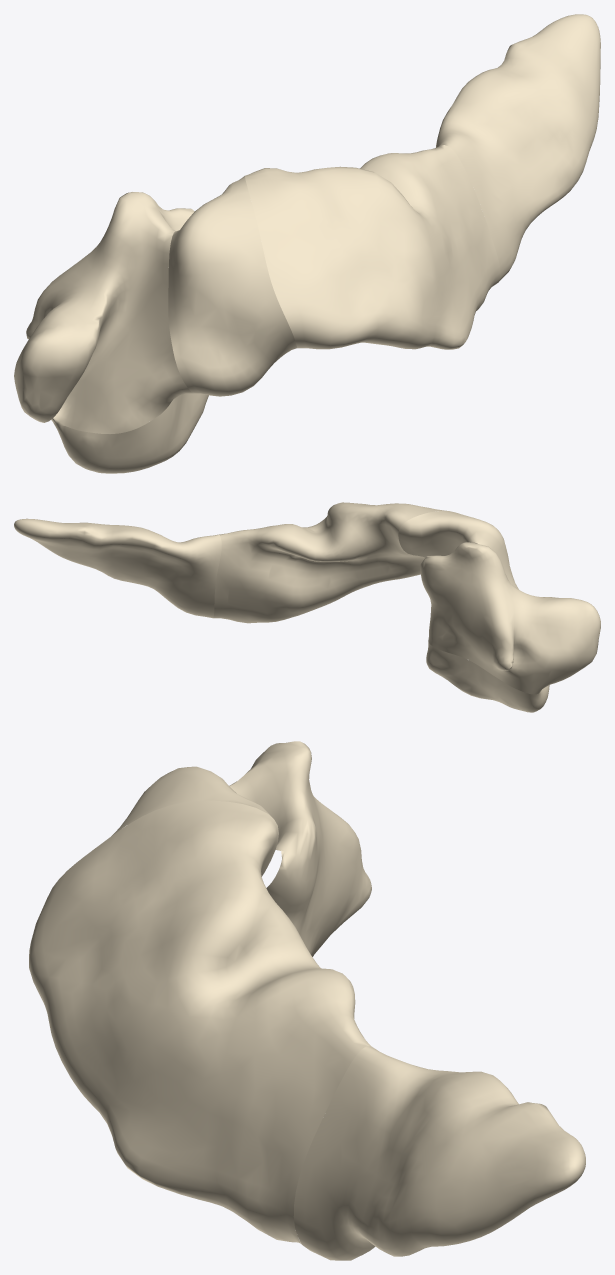
The model's file is vh_f_pancreas-80.glb.
3 renders of one model, top to bottom at view 1: azimuth 30°, elevation 25°; view 2: azimuth 150°, elevation 25°; view 3: azimuth 270°, elevation 25°, orthographic. The views are drawn at different scales.
Visible parts, largest first — view 1: VH_F_body_of_pancreas, VH_F_head_of_pancreas, VH_F_tail_of_pancreas, VH_F_neck_of_pancreas, VH_F_uncinate_process; view 2: VH_F_body_of_pancreas, VH_F_head_of_pancreas, VH_F_tail_of_pancreas, VH_F_neck_of_pancreas, VH_F_uncinate_process; view 3: VH_F_body_of_pancreas, VH_F_tail_of_pancreas, VH_F_head_of_pancreas, VH_F_neck_of_pancreas.
Boxes of the visible parts, <box> form: VH_F_body_of_pancreas: <box>245,145,500,349</box>; VH_F_head_of_pancreas: <box>14,192,194,433</box>; VH_F_tail_of_pancreas: <box>436,14,600,282</box>; VH_F_neck_of_pancreas: <box>168,176,296,396</box>; VH_F_uncinate_process: <box>53,393,208,473</box>; VH_F_body_of_pancreas: <box>213,502,449,623</box>; VH_F_head_of_pancreas: <box>420,542,600,694</box>; VH_F_tail_of_pancreas: <box>14,518,221,618</box>; VH_F_neck_of_pancreas: <box>398,511,518,589</box>; VH_F_uncinate_process: <box>426,642,549,712</box>; VH_F_body_of_pancreas: <box>29,800,371,1244</box>; VH_F_tail_of_pancreas: <box>293,1046,585,1260</box>; VH_F_head_of_pancreas: <box>229,741,371,956</box>; VH_F_neck_of_pancreas: <box>111,766,271,836</box>.
Bounding box in the file's own units: 0.1721 × 0.0579 × 0.0844.
